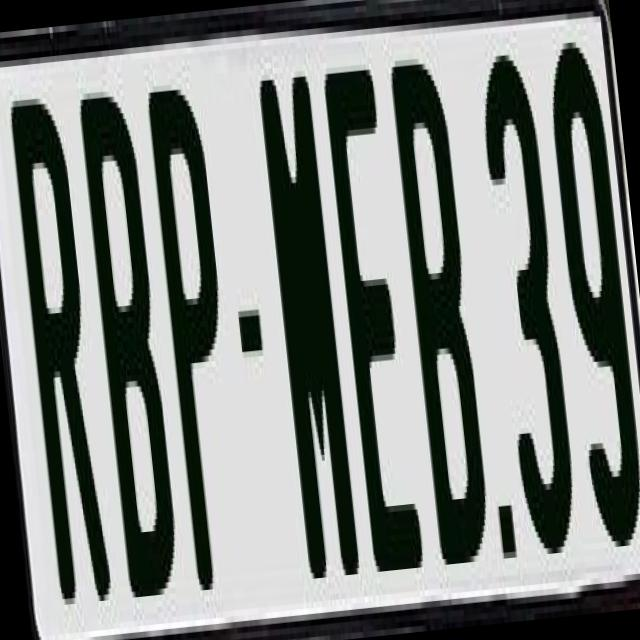3: (475, 52, 582, 561)
9: (541, 40, 640, 566)
B: (74, 82, 187, 621), (386, 51, 496, 576)
E: (320, 52, 426, 554)
M: (254, 76, 362, 584)
P: (142, 87, 248, 608)
R: (5, 90, 114, 616)
